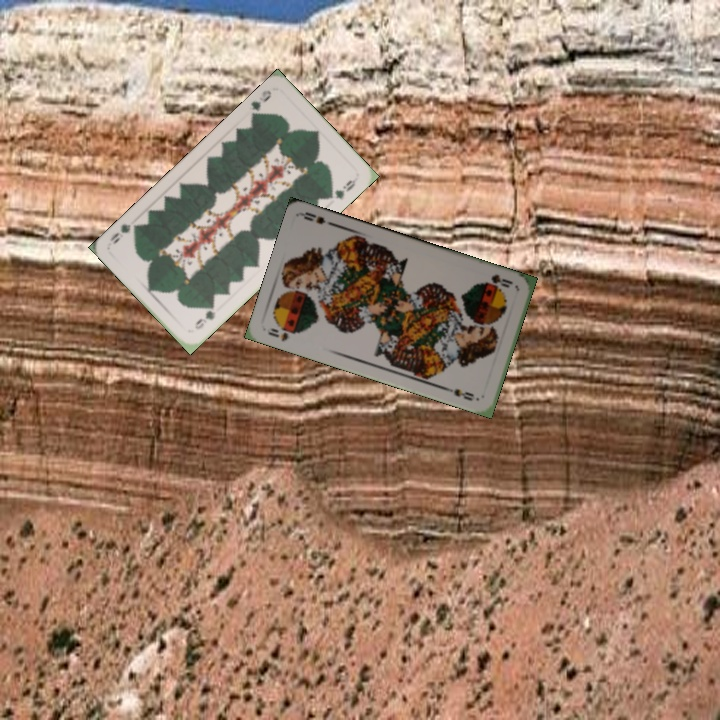G9: (246, 86, 274, 122), (191, 300, 218, 332)
SO: (480, 270, 515, 290), (264, 324, 291, 344)
